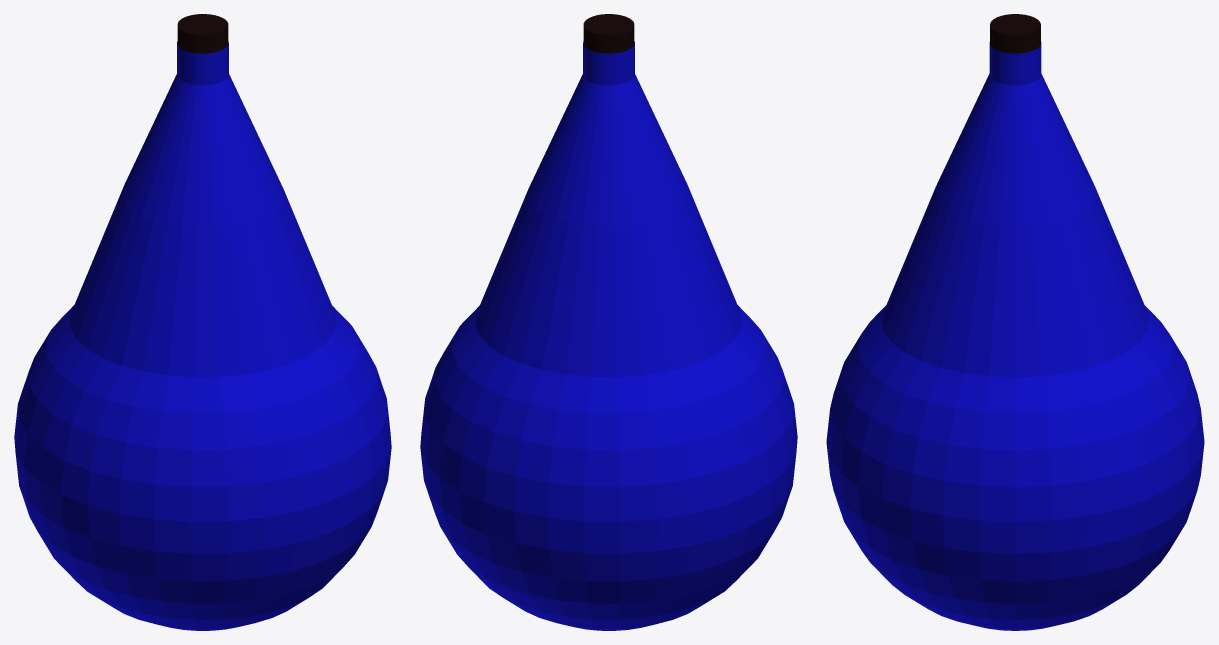
File: mana_potion.obj
3 views of the same model, side by side, from view 1: azimuth 30°, elevation 25°; view 2: azimuth 150°, elevation 25°; view 3: azimuth 270°, elevation 25° (orthographic).
Parts seen in each view (by area): view 1: Sphere; view 2: Sphere; view 3: Sphere.
Part boxes in pixels (box(x1,y1,x2,y2)): Sphere: box(14, 14, 391, 630); Sphere: box(420, 14, 797, 630); Sphere: box(826, 14, 1204, 630).
Size of the model in its own units: 2 by 3.44 by 2.
